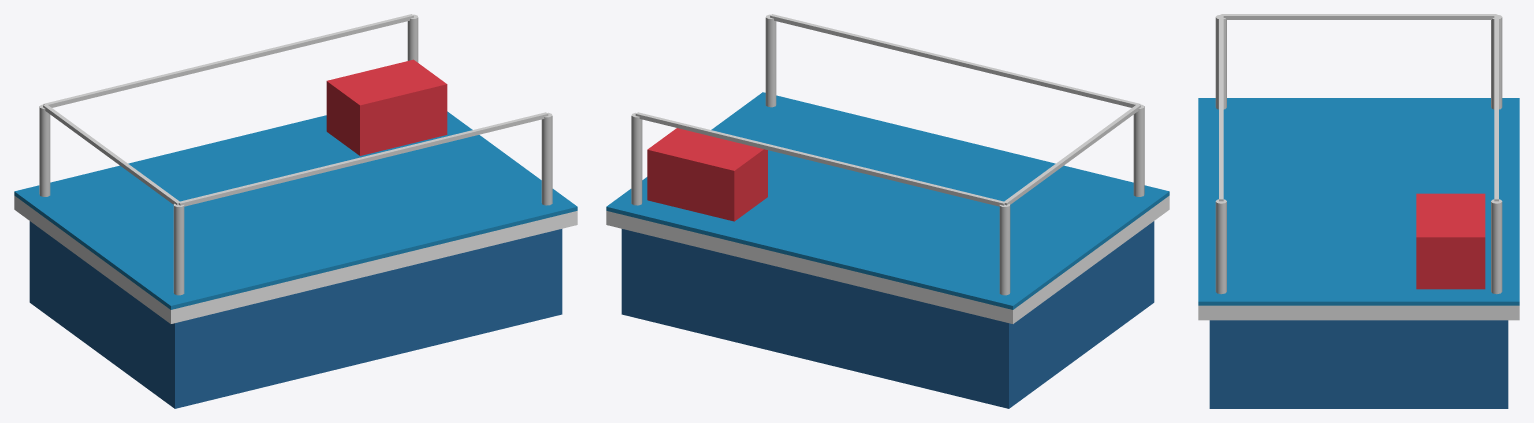
File: show_stage.glb
The picture shows the model from 3 angles, left to right: view 1: azimuth 30°, elevation 25°; view 2: azimuth 150°, elevation 25°; view 3: azimuth 270°, elevation 25°; orthographic projection. The views are drawn at different scales.
Visible parts, largest first — view 1: Show stage; view 2: Show stage; view 3: Show stage.
Boxes of the visible parts, <box> form: Show stage: <box>14,14,577,408</box>; Show stage: <box>606,14,1169,408</box>; Show stage: <box>1198,14,1519,408</box>.
Bounding box in the file's own units: 4.2 × 1.97 × 2.8.
